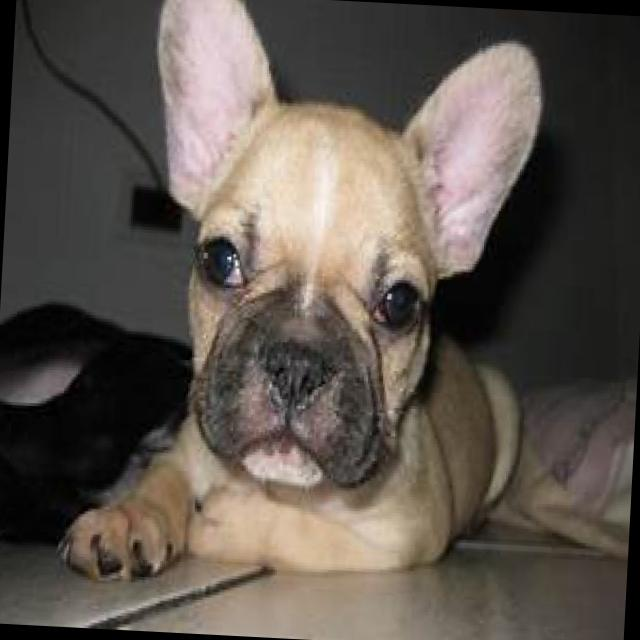dog: (61, 0, 576, 614)
